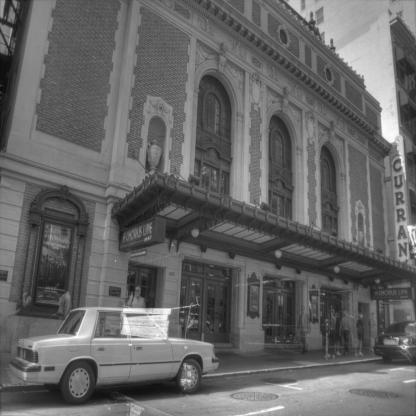car: (9, 296, 224, 403)
